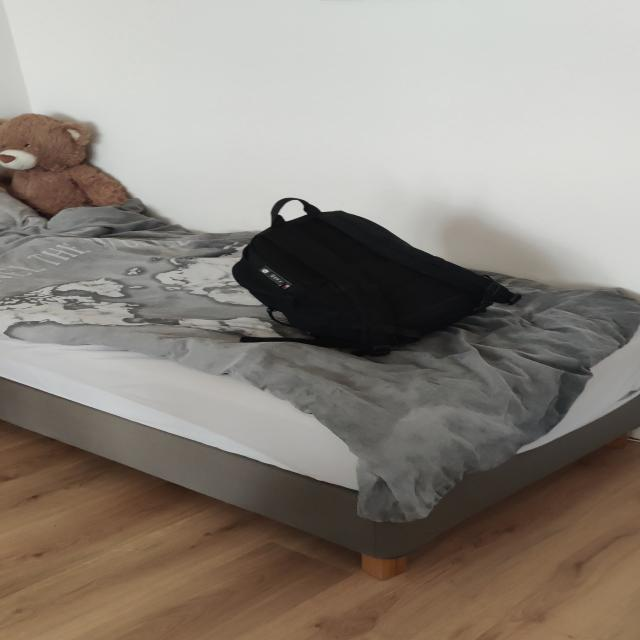backpack: (218, 198, 517, 362)
